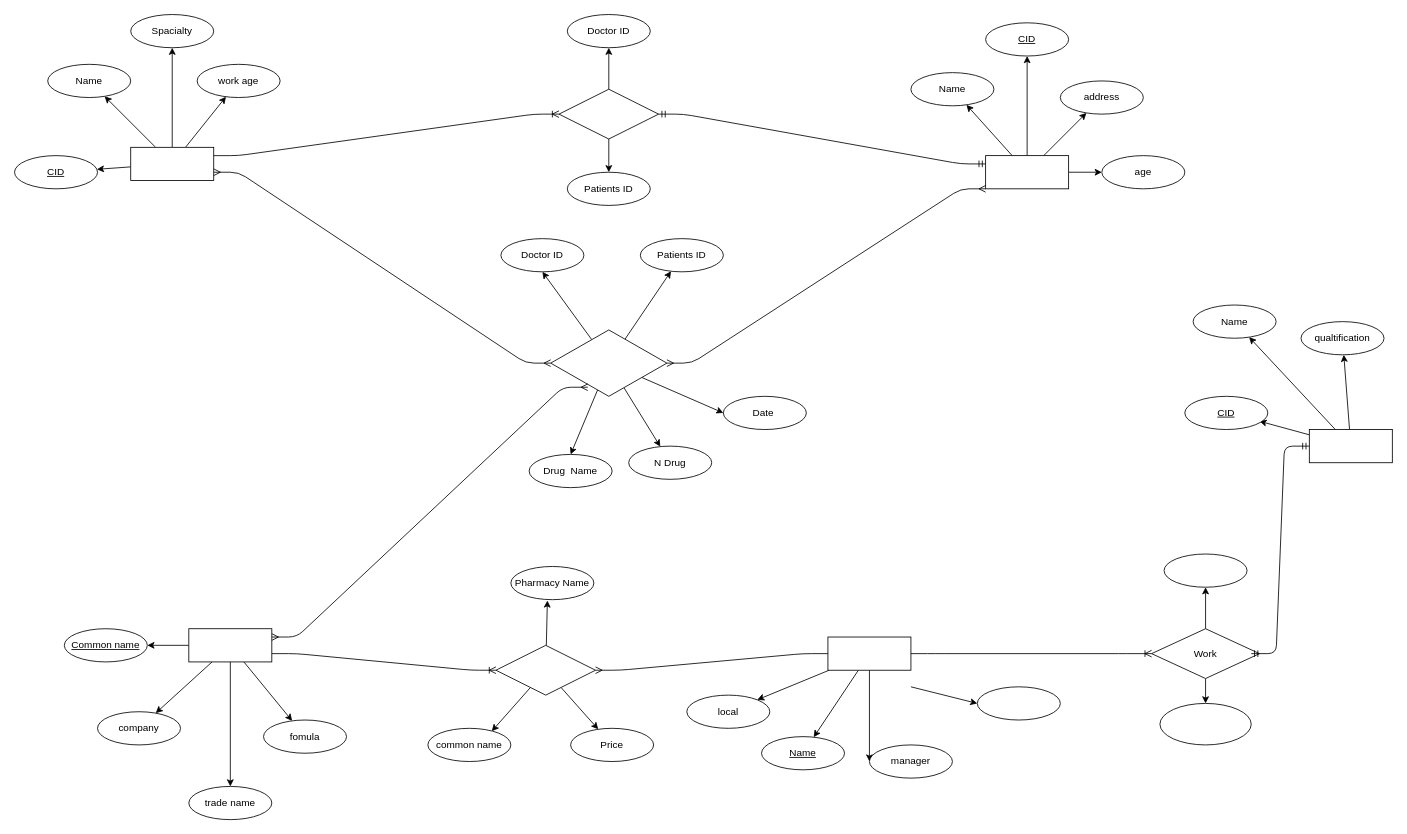
Some shapes in this 1407 by 834 pixel diagram are drawn without their labels. Here are the shapes that lost their labels. From the top down, the centre of each, then its label:
the point at 608,113: treat
the point at 172,163: Doctor
the point at 1027,172: Patients
the point at 608,362: Prescribe drug
the point at 1350,446: Pharamacist
the point at 1205,570: Pharamacist ID
the point at 230,645: Drug
the point at 869,653: Pharmacy
the point at 545,669: sell
the point at 1018,703: Phone num
the point at 1205,724: Pharamacy Name
